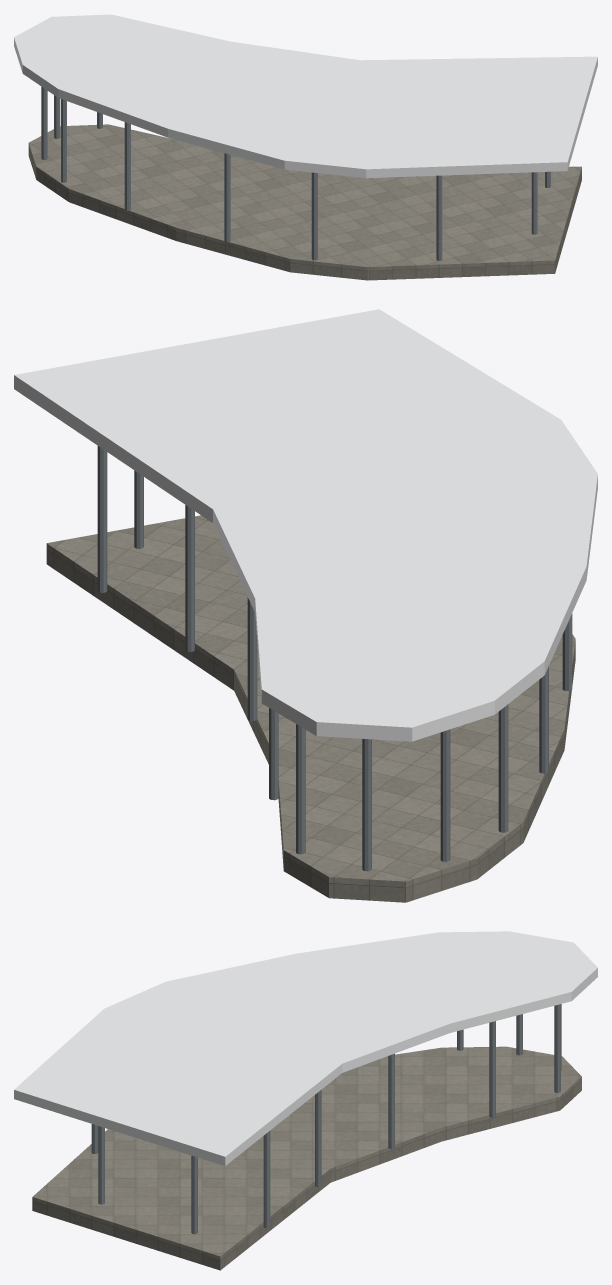
3 renders of one model, top to bottom at view 1: azimuth 30°, elevation 25°; view 2: azimuth 150°, elevation 25°; view 3: azimuth 270°, elevation 25°, orthographic. The views are drawn at different scales.
Parts seen in each view (by area): view 1: pavilion-south__canopy, pavilion-south__stone, pavilion-south__steel; view 2: pavilion-south__canopy, pavilion-south__stone, pavilion-south__steel; view 3: pavilion-south__canopy, pavilion-south__stone, pavilion-south__steel.
Part boxes in pixels (x1,y1,x2,y2): pavilion-south__canopy: (14, 14, 597, 178); pavilion-south__stone: (28, 124, 581, 280); pavilion-south__steel: (41, 86, 550, 260); pavilion-south__canopy: (14, 309, 597, 741); pavilion-south__stone: (46, 515, 575, 902); pavilion-south__steel: (97, 446, 572, 871); pavilion-south__canopy: (14, 931, 597, 1165); pavilion-south__stone: (32, 1046, 581, 1270); pavilion-south__steel: (91, 1004, 561, 1233).
Size of the model in its own units: 14.46 by 3.68 by 15.82.
Materials: 3 (1 with a texture image).
